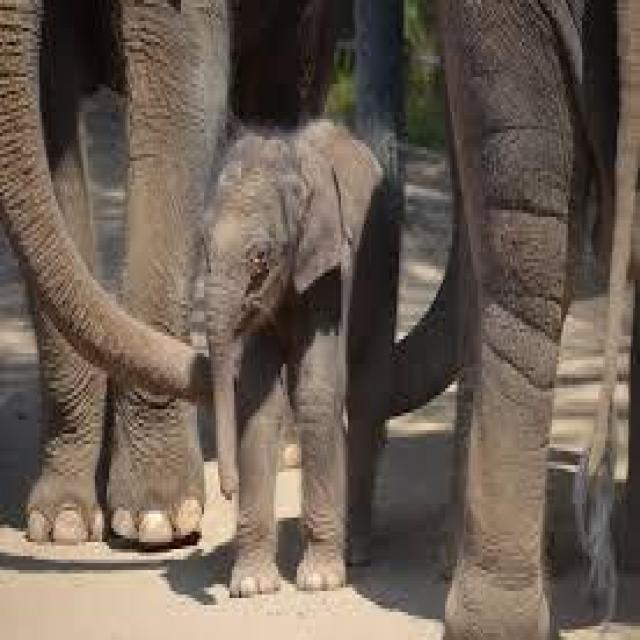Elephant: (197, 119, 397, 601)
